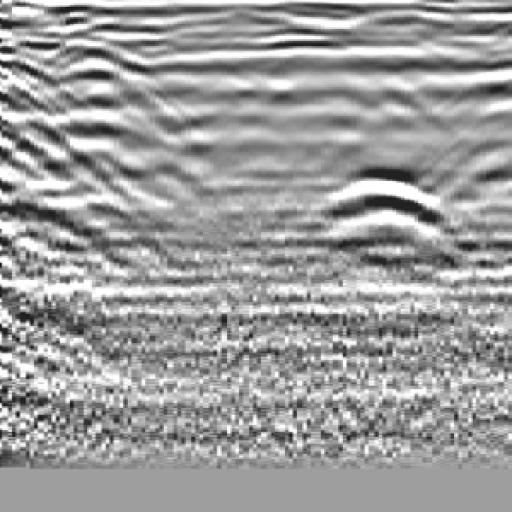metalic: (303, 45, 471, 276)
nonmetalic: (1, 48, 100, 257)
